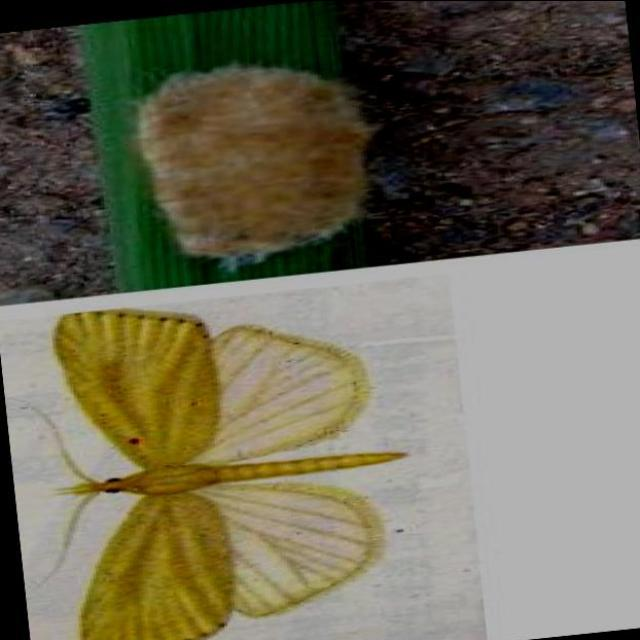stem borer: (52, 309, 404, 640), (136, 64, 371, 269)
